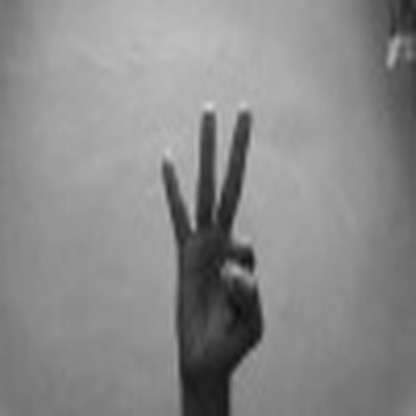f: (145, 90, 277, 373)
